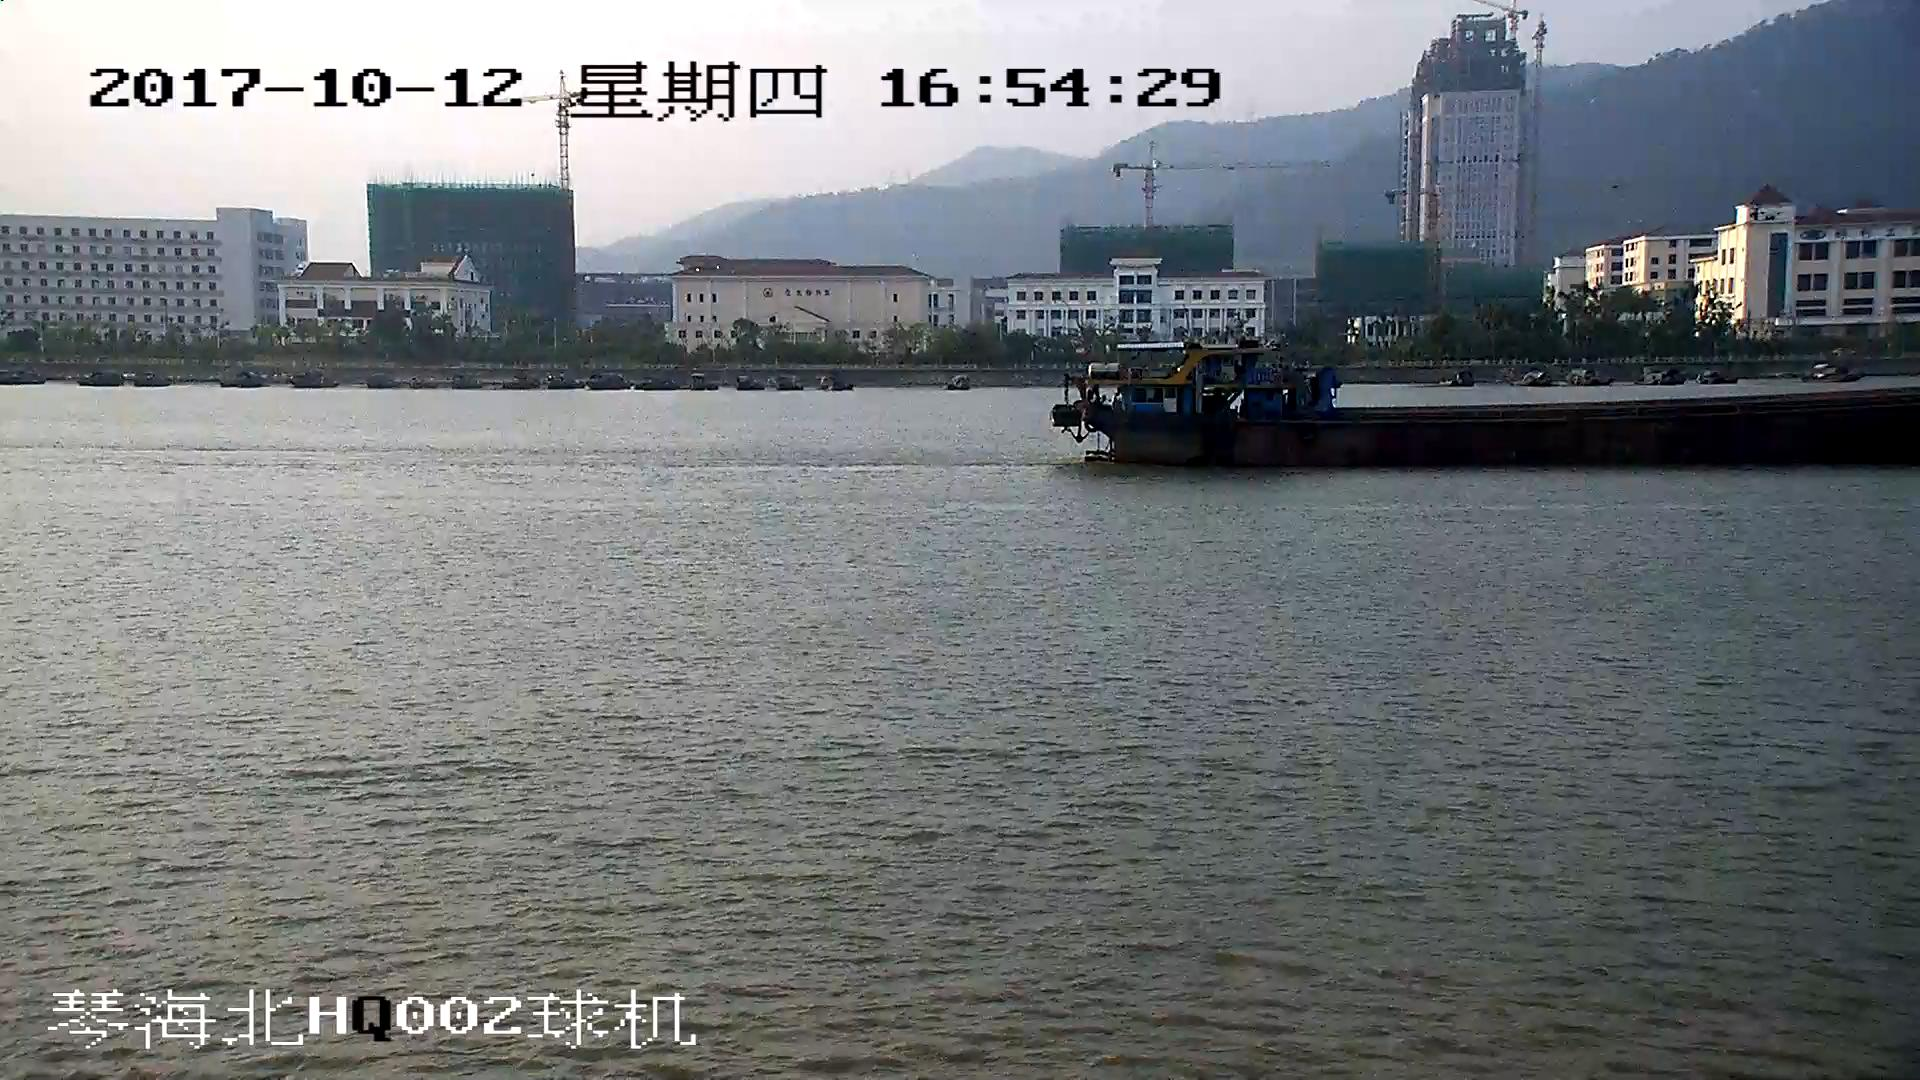bulk cargo carrier: (1054, 344, 1920, 469)
